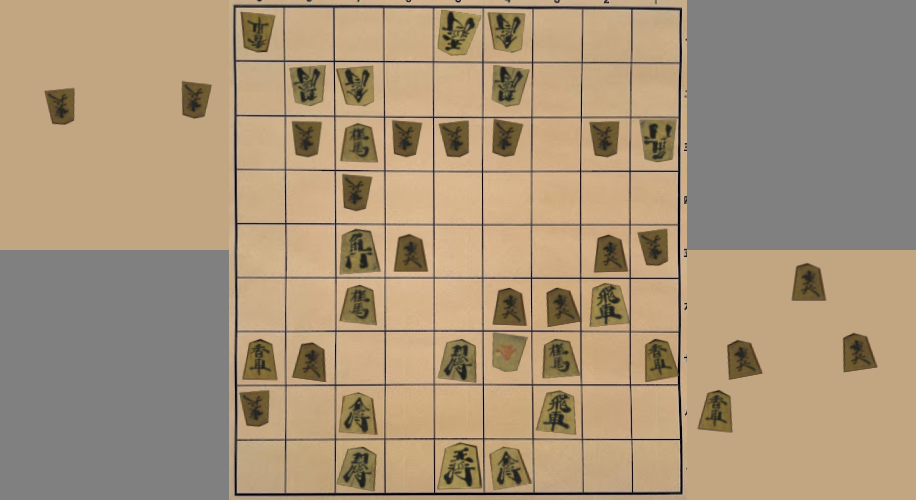A: (337, 115, 387, 171), (434, 330, 485, 384), (531, 384, 581, 439), (434, 438, 485, 491), (335, 438, 385, 492), (581, 279, 632, 331), (236, 331, 286, 383), (335, 385, 384, 438), (631, 331, 679, 385), (486, 439, 534, 493), (384, 223, 431, 278), (581, 225, 630, 277), (531, 278, 580, 330), (286, 333, 335, 385), (532, 331, 581, 383), (337, 278, 385, 331), (337, 224, 383, 278), (483, 278, 531, 329)
B: (629, 116, 681, 172), (581, 116, 630, 171), (335, 170, 385, 223), (335, 61, 384, 115), (284, 61, 334, 113), (236, 386, 285, 439), (483, 7, 531, 61), (631, 225, 679, 279), (484, 61, 531, 116), (434, 8, 483, 60), (285, 116, 334, 168), (433, 118, 482, 170), (484, 118, 532, 170), (483, 332, 531, 384), (386, 115, 433, 168), (237, 8, 282, 59)
C: (696, 390, 735, 434), (724, 339, 763, 380), (791, 262, 828, 305), (842, 332, 878, 373)
D: (180, 78, 213, 121), (43, 89, 81, 124)
